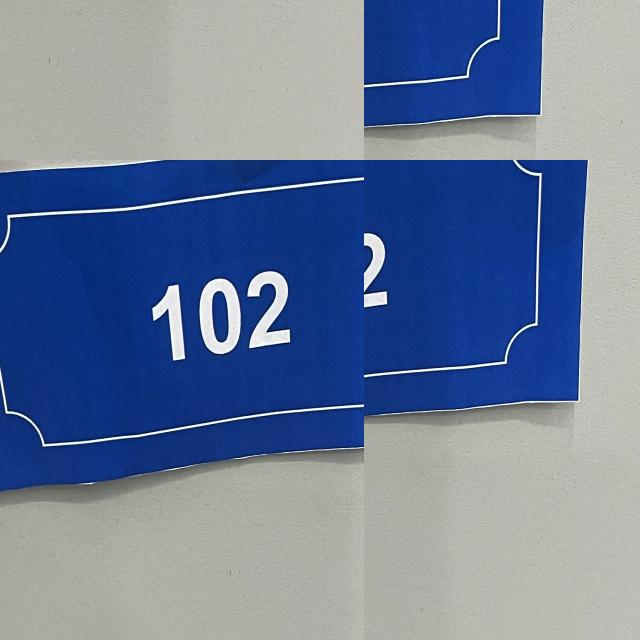Card: (364, 160, 637, 490), (0, 0, 267, 160), (0, 160, 149, 296), (269, 0, 364, 98), (364, 0, 473, 65)
